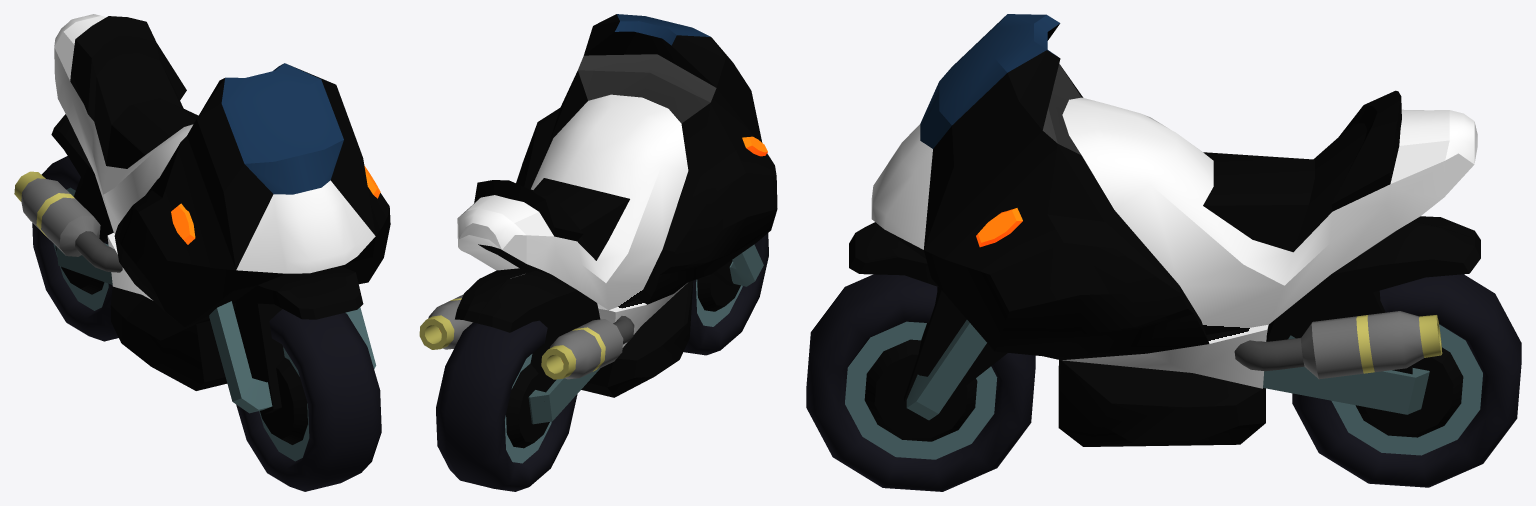
File: Racing_MotoBike_Chub.fbx
3 renders of one model, left to right at view 1: azimuth 30°, elevation 25°; view 2: azimuth 150°, elevation 25°; view 3: azimuth 270°, elevation 25°, orthographic. The views are drawn at different scales.
Visible parts, largest first — view 1: Bike.Body, Wheel.Front, WheelHolder.Front, Wheel.Back, Auspuff, WheelHolder.Back; view 2: Bike.Body, Wheel.Back, WheelHolder.Back, Auspuff, Wheel.Front, WheelHolder.Front; view 3: Bike.Body, Wheel.Front, Wheel.Back, WheelHolder.Back, WheelHolder.Front, Auspuff.
Part boxes in pixels (box(x1,y1,x2,y2)): Bike.Body: box(54, 14, 390, 390); Wheel.Front: box(236, 309, 381, 491); WheelHolder.Front: box(209, 266, 376, 414); Wheel.Back: box(32, 156, 118, 341); Auspuff: box(14, 171, 122, 272); WheelHolder.Back: box(51, 114, 113, 284); Bike.Body: box(457, 14, 777, 397); Wheel.Back: box(436, 320, 577, 491); WheelHolder.Back: box(455, 268, 600, 424); Auspuff: box(419, 294, 634, 379); Wheel.Front: box(683, 233, 768, 355); WheelHolder.Front: box(713, 244, 763, 286); Bike.Body: box(871, 14, 1477, 446); Wheel.Front: box(806, 274, 1035, 491); Wheel.Back: box(1292, 274, 1521, 487); WheelHolder.Back: box(1263, 216, 1480, 414); WheelHolder.Front: box(849, 222, 1007, 420); Auspuff: box(1234, 311, 1442, 379).
Size of the model in its own units: 44.69 by 66.02 by 95.3.
